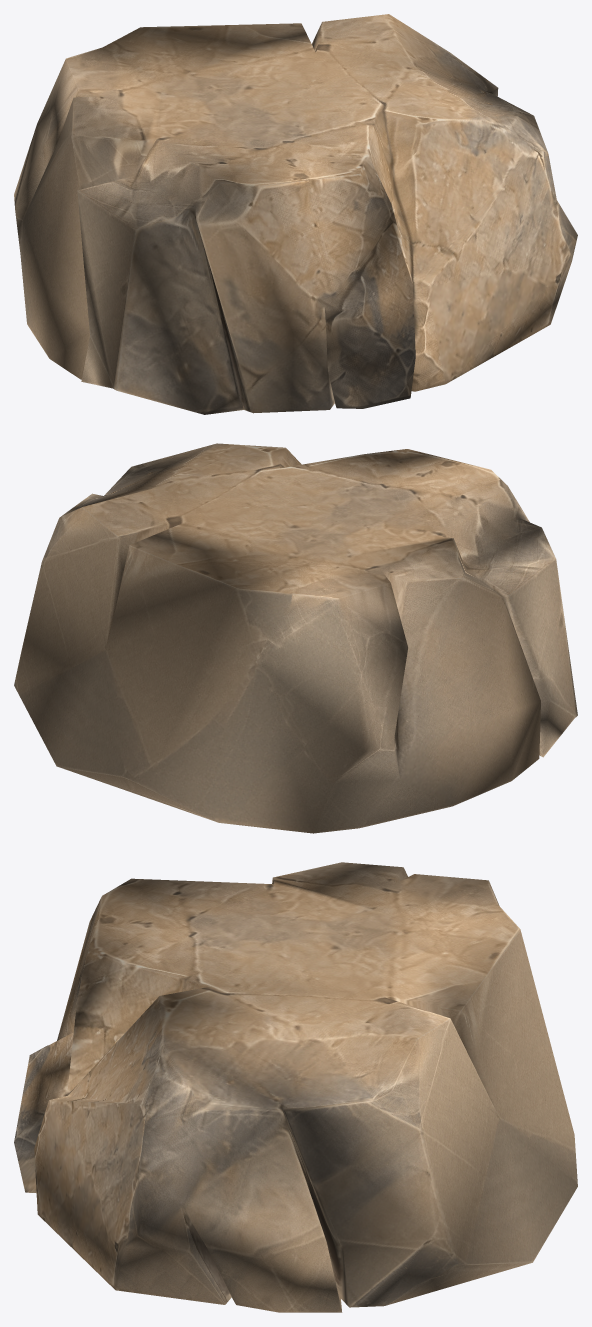
File: RoadStone.fbx
3 renders of one model, top to bottom at view 1: azimuth 30°, elevation 25°; view 2: azimuth 150°, elevation 25°; view 3: azimuth 270°, elevation 25°, orthographic. The views are drawn at different scales.
Visible parts, largest first — view 1: Mesh_0; view 2: Mesh_0; view 3: Mesh_0.
Boxes of the visible parts, x1,y1,x2,y2 form: Mesh_0: (14, 14, 577, 414); Mesh_0: (14, 443, 577, 833); Mesh_0: (14, 862, 577, 1312).
Bounding box in the file's own units: 100 × 46.29 × 97.66.
Materials: 1 (1 with a texture image).
